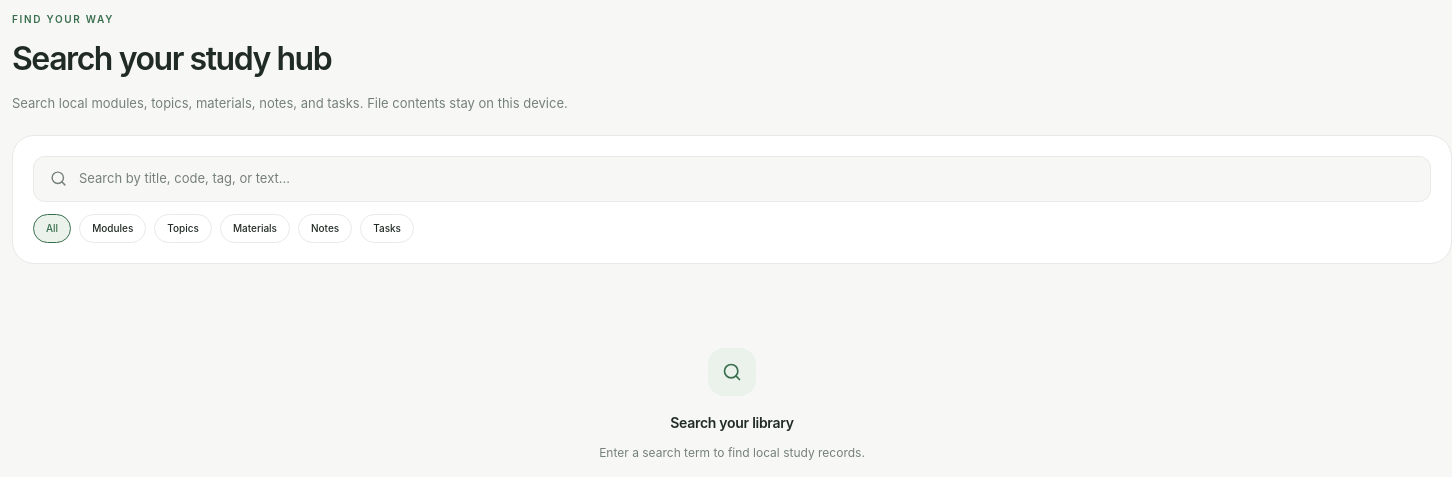
Test case: SearchPage › shows helpful empty-query and no-results states
expect the heading "Search your library" is shown: met, box [670, 412, 794, 432]
Type "no matching record" into the search field named "Search all study records" at (746, 179), box [79, 169, 1414, 188]
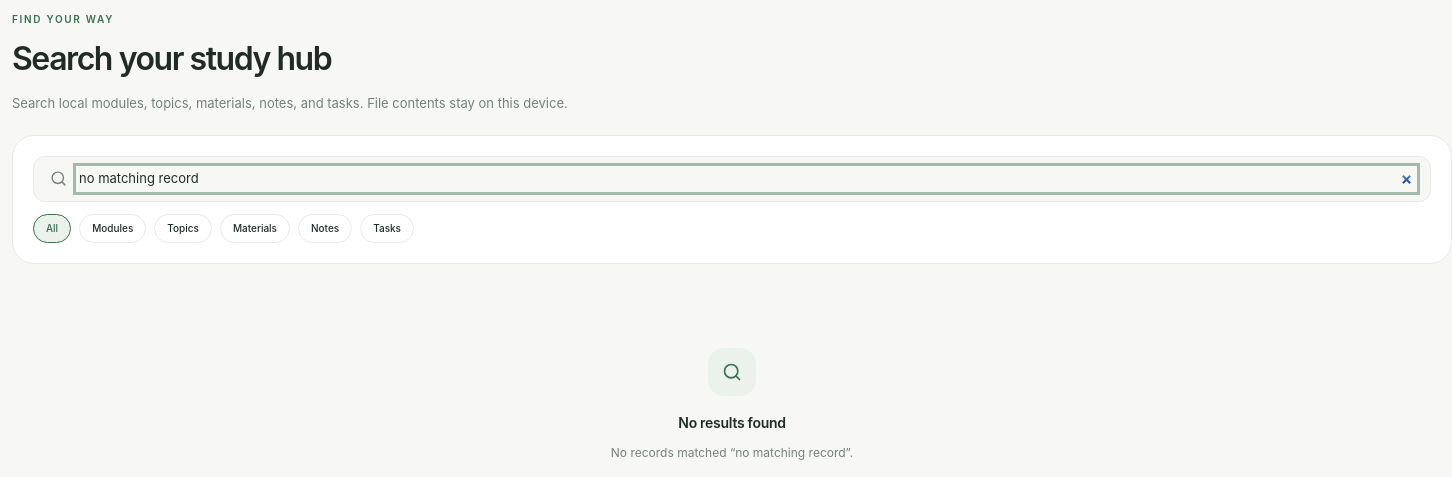
expect the heading "No results found" is shown: met, box [678, 412, 786, 432]
